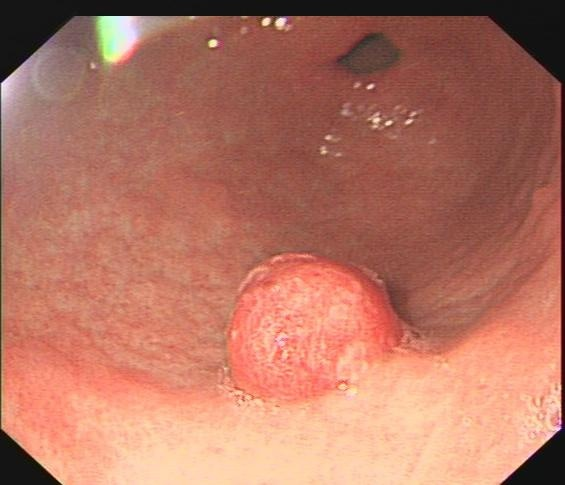Polyp: (205, 242, 407, 408)
